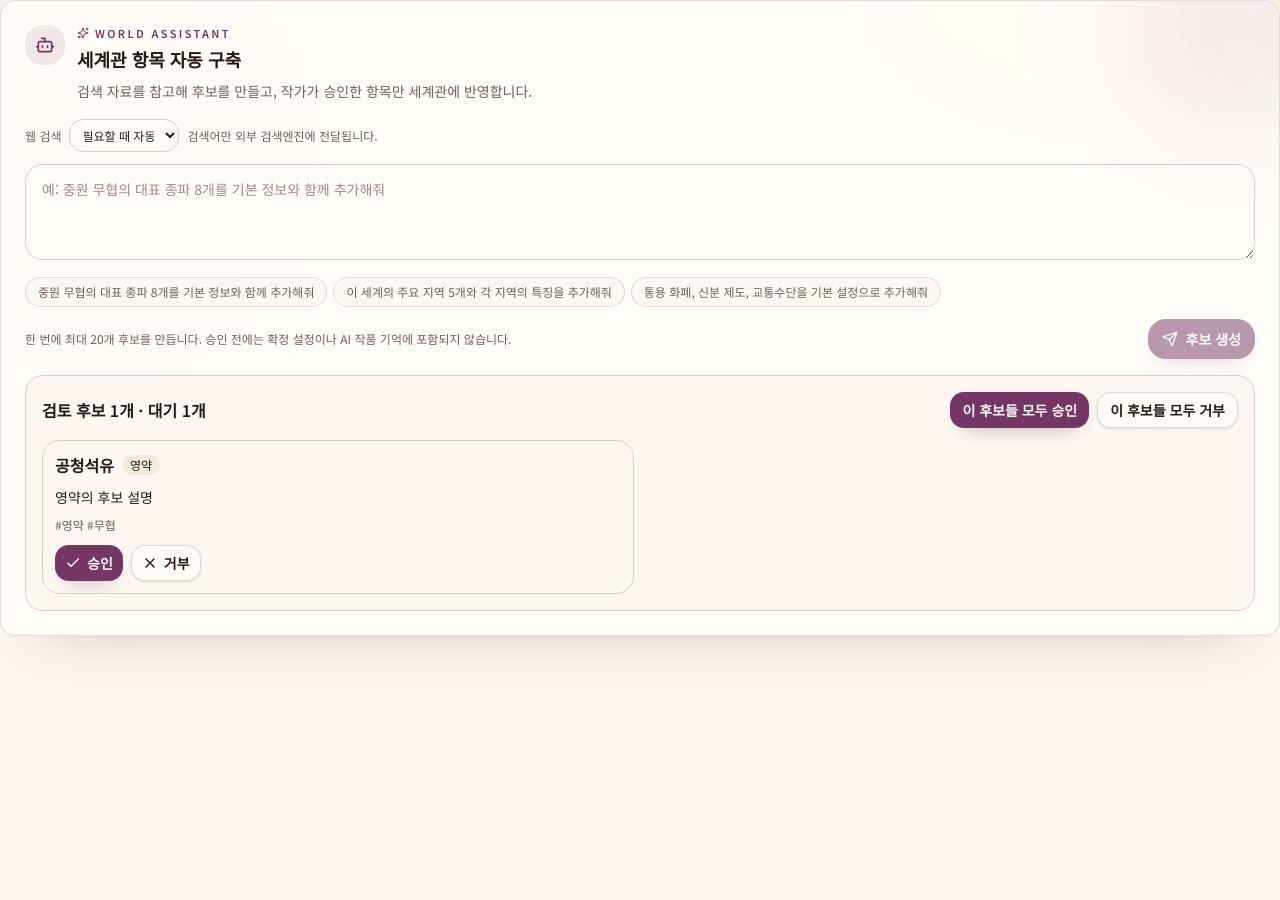
Test: WorldBuilderAssistant review flow › restores pending drafts after refresh and rejection never adds entries
The width and height of the screenshot is (1280, 900).
Click the button "거부" at x=166, y=563, box [131,545,201,581]
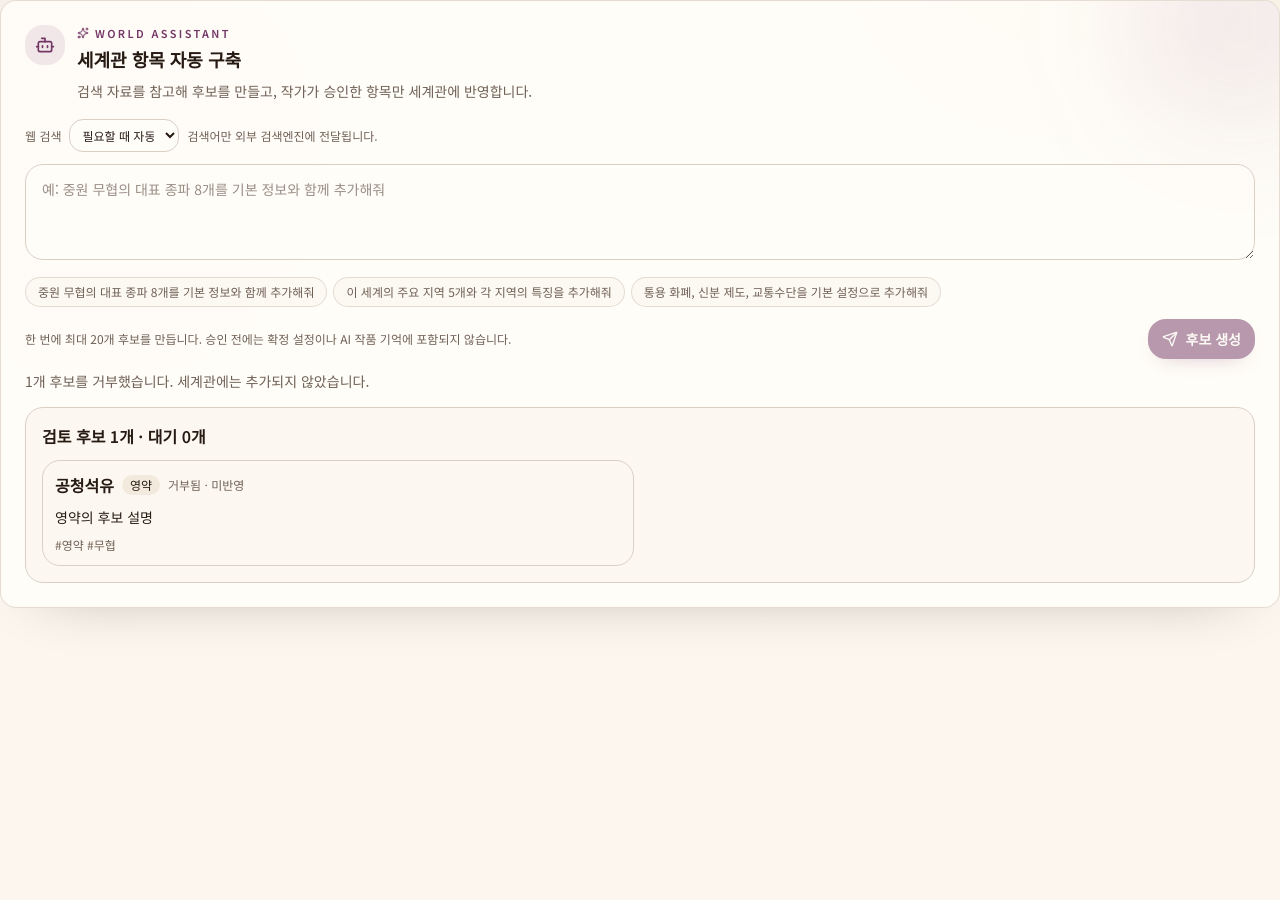
Check: the text "거부됨 · 미반영" is shown, box [168,477,244,493]
